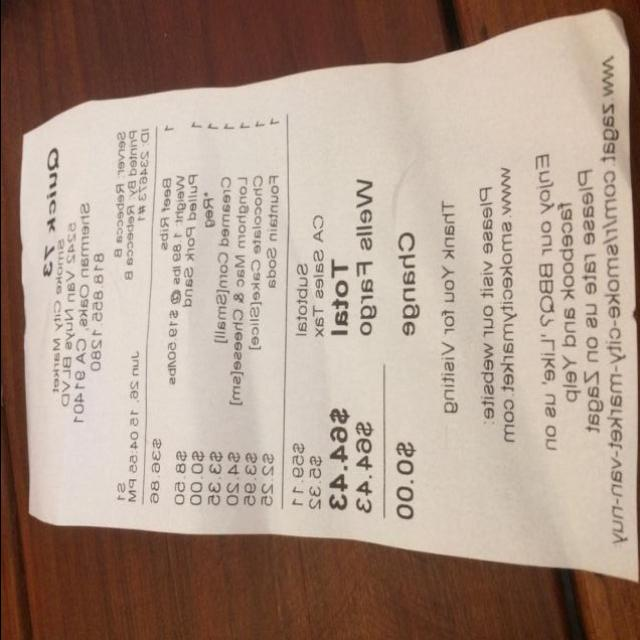kertas: (15, 10, 640, 595)
